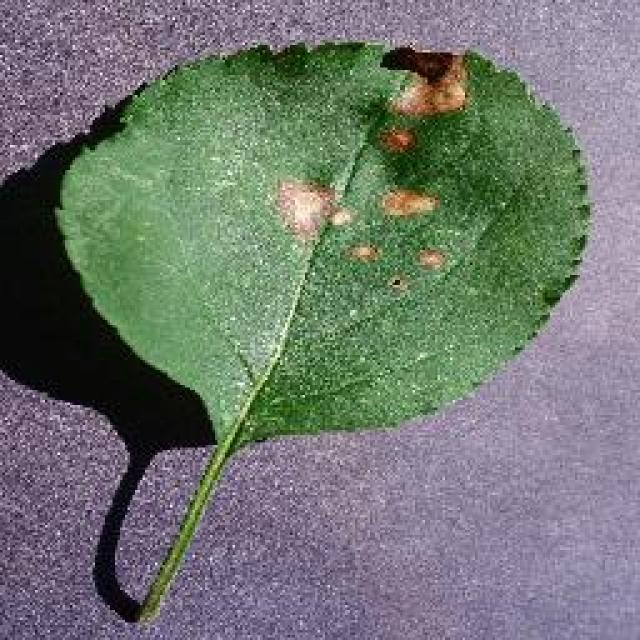Black_rot: (50, 38, 592, 622)
